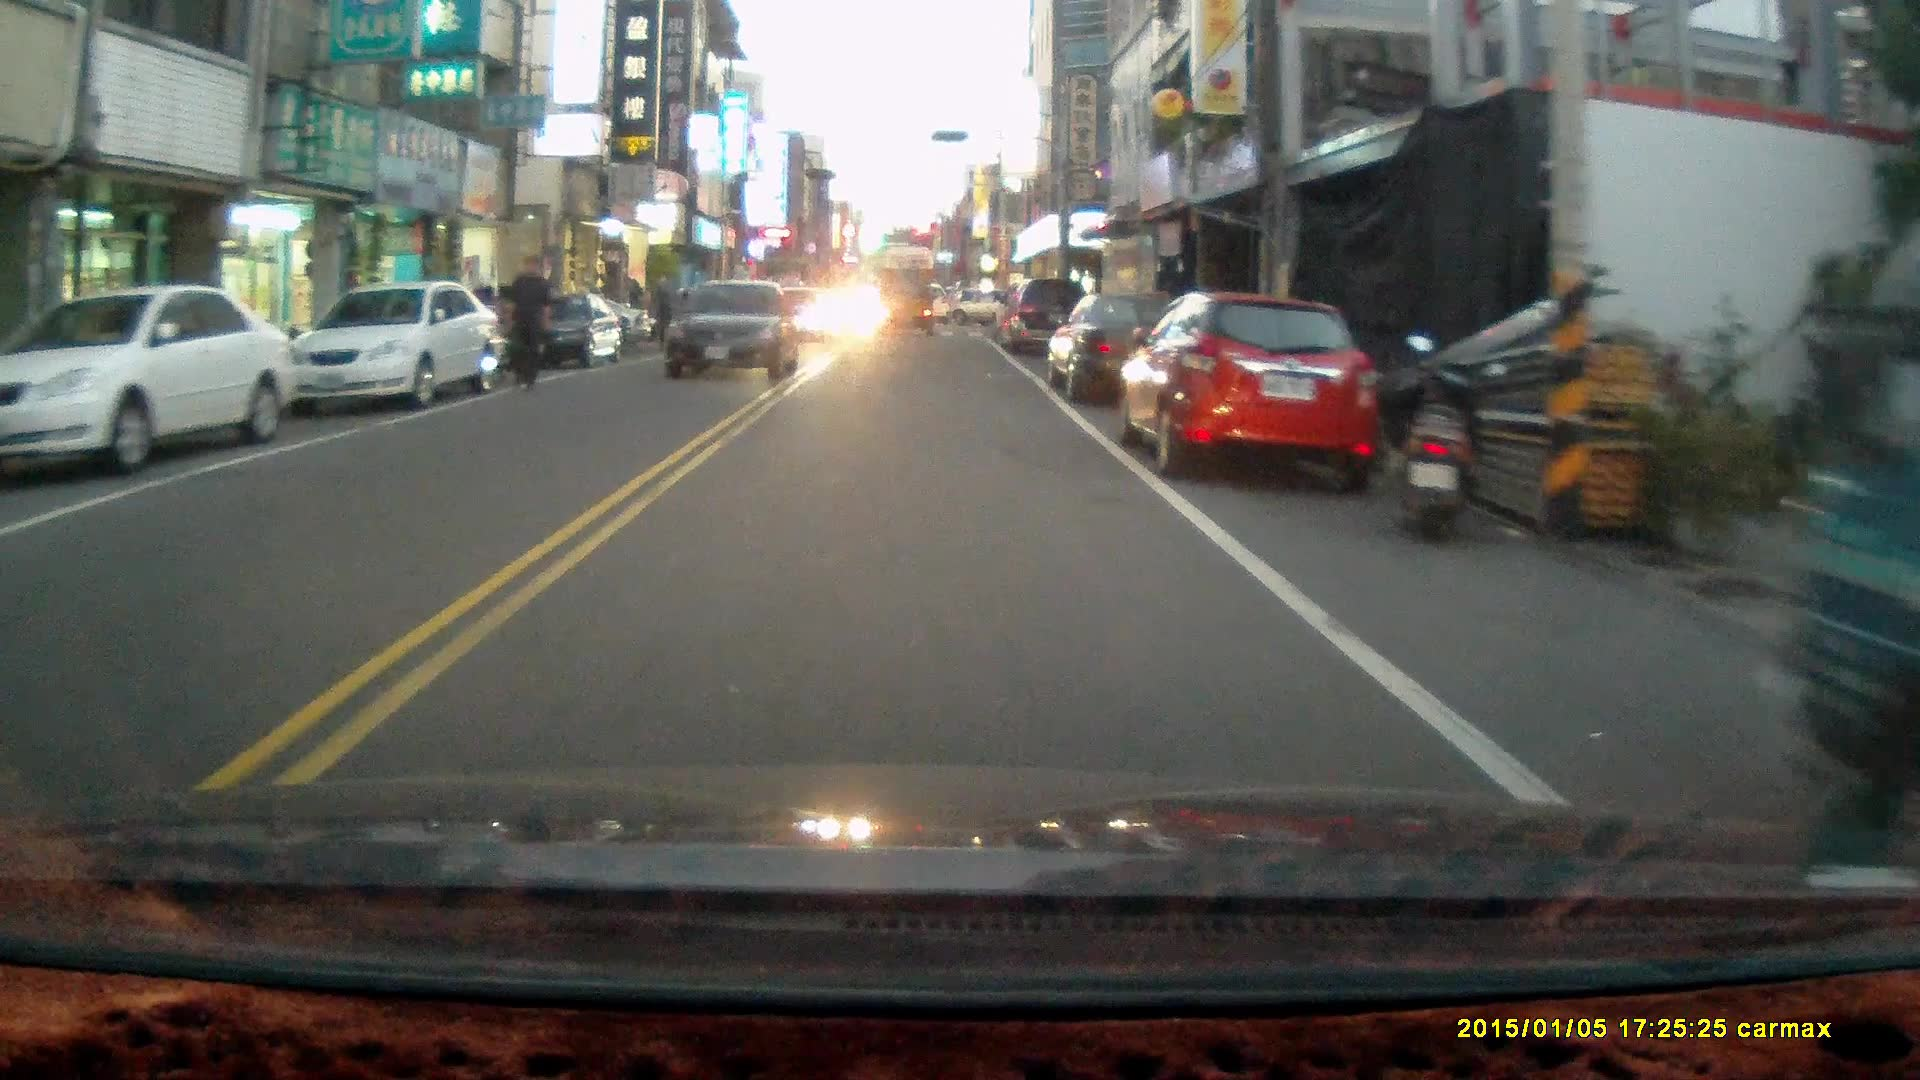pedestrian: (500, 256, 552, 395), (649, 274, 677, 350)
vehicle: (2, 287, 304, 477), (1122, 300, 1385, 496), (291, 290, 507, 420), (1042, 296, 1219, 410), (660, 279, 804, 389), (514, 293, 622, 377), (990, 279, 1098, 362), (873, 266, 937, 335)
